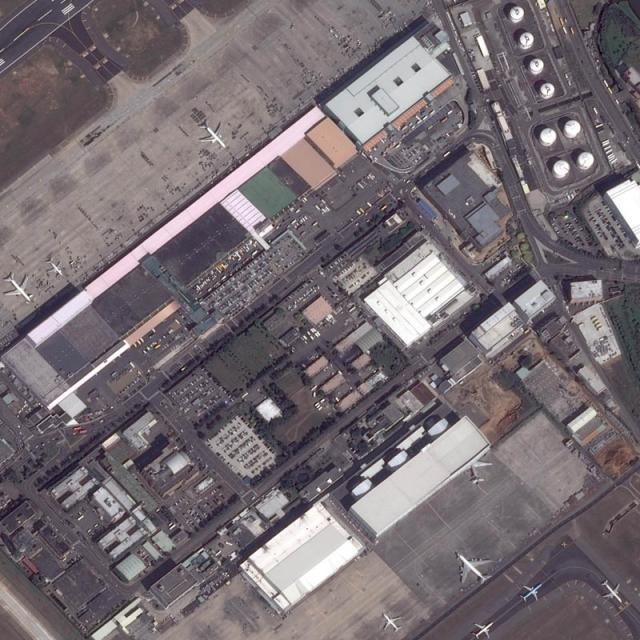vehicle: (357, 182, 365, 190), (361, 179, 369, 186), (349, 306, 356, 313), (214, 550, 222, 556), (611, 158, 618, 164), (443, 151, 450, 157), (234, 252, 241, 258), (595, 123, 603, 128), (559, 18, 564, 26), (79, 430, 89, 434), (607, 88, 613, 94), (368, 174, 374, 180), (129, 362, 135, 368), (593, 107, 598, 114), (602, 139, 609, 144), (608, 155, 615, 160), (241, 393, 248, 398), (169, 525, 176, 530), (310, 386, 317, 391), (78, 515, 83, 522), (90, 390, 97, 395), (175, 318, 180, 325), (602, 142, 610, 146), (605, 150, 613, 154), (570, 26, 574, 34), (562, 26, 566, 34), (225, 542, 233, 546), (74, 426, 82, 430), (429, 110, 435, 115), (359, 181, 365, 186), (367, 202, 373, 207), (359, 207, 364, 213), (314, 205, 320, 210), (252, 250, 258, 255), (302, 334, 307, 340), (111, 372, 117, 377), (137, 340, 142, 346), (155, 344, 161, 349), (604, 80, 608, 87), (598, 130, 605, 134), (604, 146, 611, 150), (356, 210, 361, 215), (321, 208, 326, 213), (241, 248, 246, 253), (196, 285, 201, 290), (238, 250, 243, 255), (301, 231, 306, 236), (320, 398, 325, 403), (607, 154, 613, 158), (442, 118, 448, 122), (222, 263, 226, 269), (609, 158, 614, 162), (381, 206, 386, 210), (415, 116, 420, 120), (402, 126, 407, 130), (428, 126, 433, 130), (422, 116, 427, 120), (417, 120, 422, 124), (369, 154, 373, 159), (313, 222, 318, 226), (322, 199, 326, 204), (291, 220, 296, 224), (213, 282, 218, 286), (216, 284, 221, 288), (312, 327, 316, 332), (317, 331, 321, 336), (318, 406, 323, 410), (137, 371, 142, 375), (396, 145, 400, 149), (326, 207, 330, 211), (303, 198, 307, 202), (302, 218, 306, 222), (218, 266, 222, 270), (222, 276, 226, 280), (326, 318, 330, 322), (310, 329, 314, 333), (314, 333, 318, 337), (310, 336, 314, 340), (168, 522, 172, 526), (314, 402, 318, 406), (182, 366, 186, 370), (140, 338, 144, 342), (143, 350, 147, 354), (146, 346, 150, 350), (70, 260, 74, 264), (295, 210, 300, 213), (406, 180, 410, 183), (381, 140, 385, 143), (410, 122, 413, 126), (304, 216, 308, 219), (204, 281, 207, 285), (207, 288, 211, 291), (238, 257, 241, 261), (307, 331, 310, 335), (300, 338, 304, 341), (156, 509, 160, 512), (314, 392, 316, 398), (318, 405, 321, 409), (134, 343, 137, 347), (153, 329, 156, 333), (99, 419, 103, 422), (419, 215, 422, 218), (385, 147, 388, 150), (389, 145, 392, 148), (302, 200, 305, 203), (300, 219, 303, 222), (252, 497, 255, 500), (616, 99, 618, 103), (393, 142, 396, 144), (356, 223, 358, 226), (232, 258, 234, 261)
